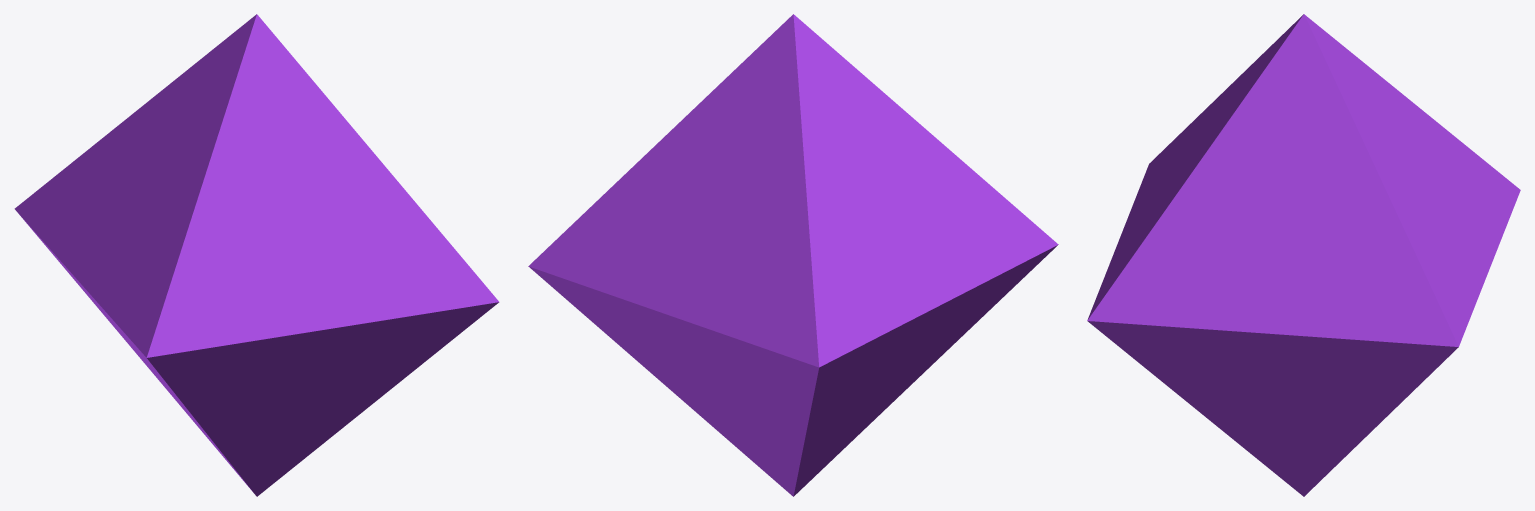
The model's file is Crystal.002.fbx.
3 views of the same model, side by side, from view 1: azimuth 30°, elevation 25°; view 2: azimuth 150°, elevation 25°; view 3: azimuth 270°, elevation 25° (orthographic).
Visible parts, largest first — view 1: Crystal.002; view 2: Crystal.002; view 3: Crystal.002.
Part boxes in pixels (x1,y1,x2,y2): Crystal.002: (14, 14, 499, 496); Crystal.002: (528, 14, 1058, 496); Crystal.002: (1087, 14, 1520, 496).
Bounding box in the file's own units: 833 × 1024 × 833.
